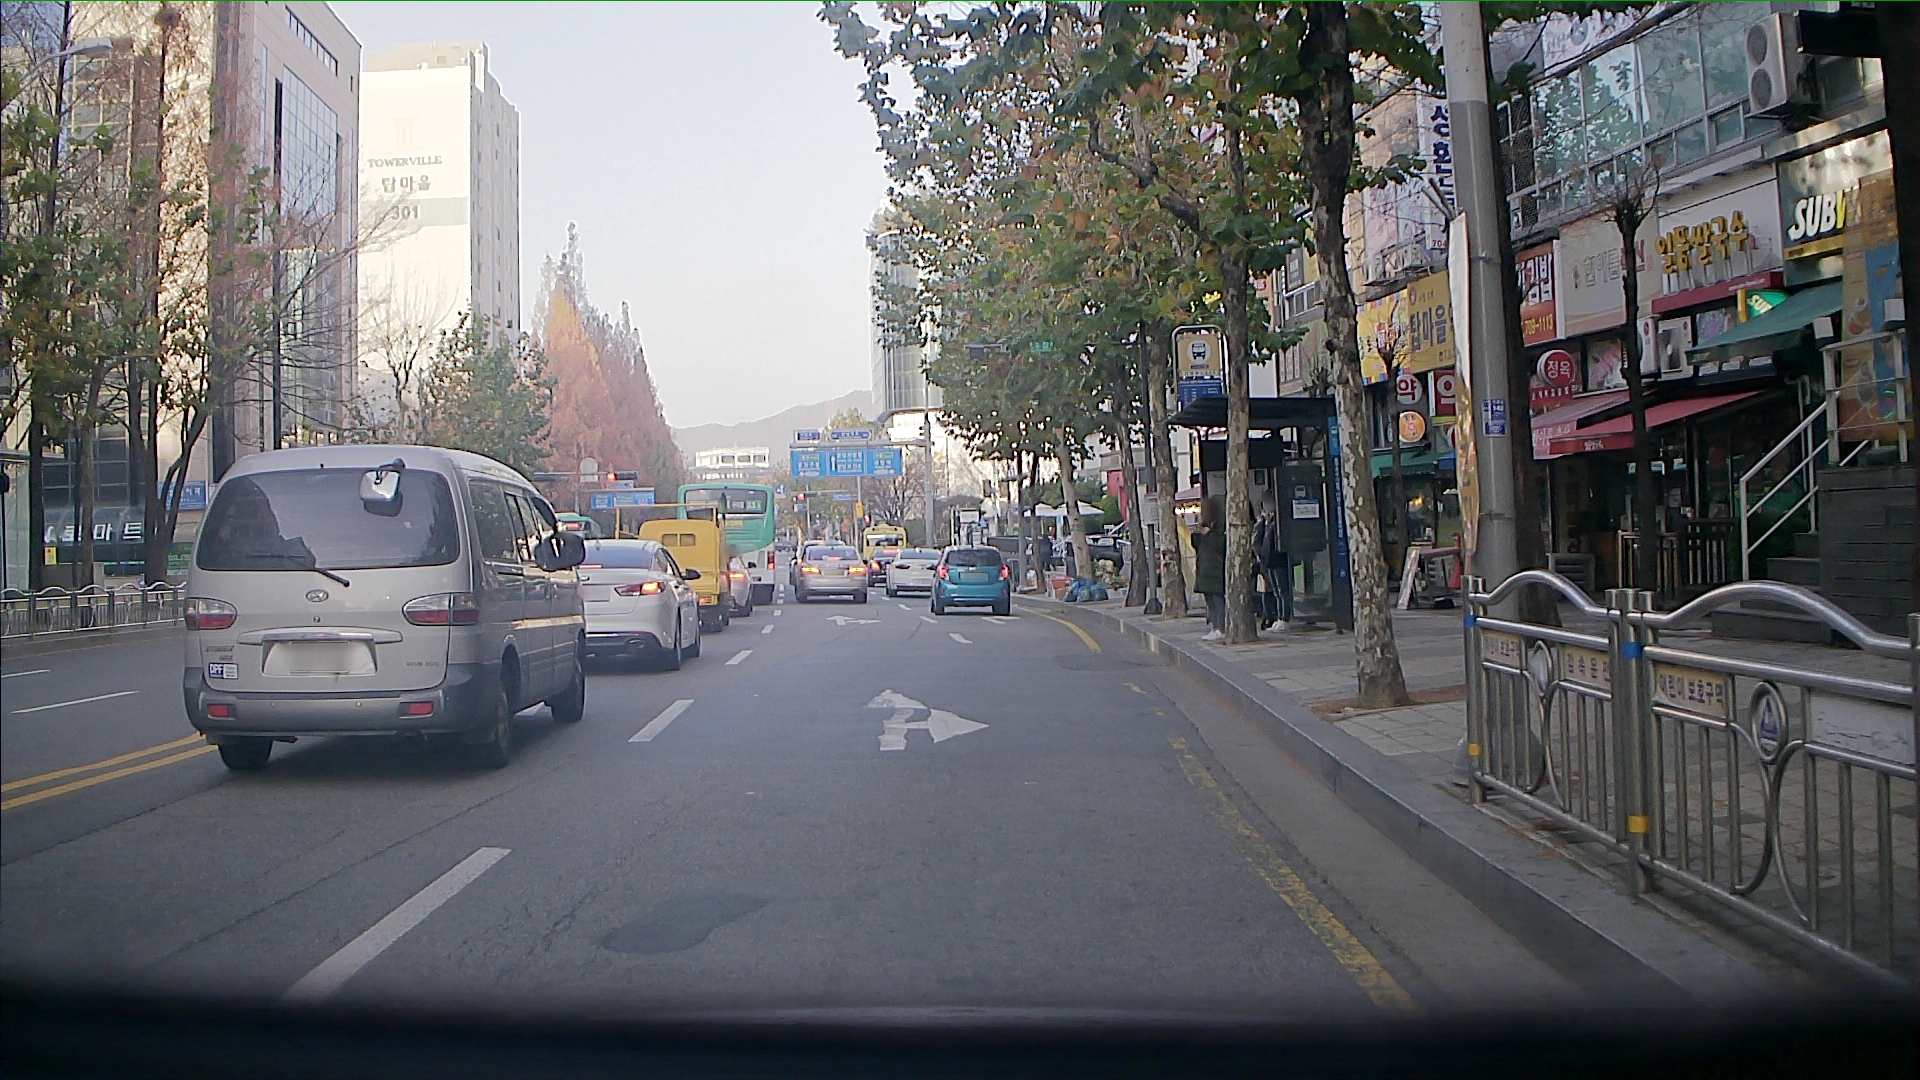trafficLight: (601, 468, 634, 485), (796, 491, 825, 498)
